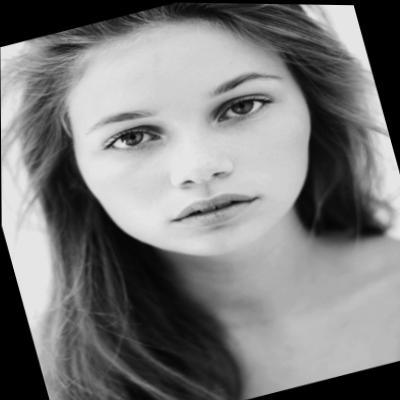netural: (49, 1, 338, 282)
